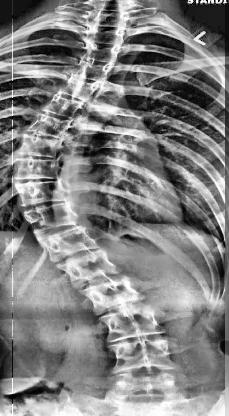Vertebrae: (100, 304, 167, 342), (77, 276, 146, 312), (53, 251, 117, 285), (40, 228, 104, 262), (112, 338, 174, 372), (22, 202, 78, 235), (10, 180, 72, 206), (10, 156, 63, 182), (16, 132, 63, 160), (27, 113, 73, 141), (42, 93, 84, 120), (62, 76, 98, 102), (82, 43, 119, 66), (85, 11, 131, 29), (77, 60, 111, 84), (86, 28, 126, 48)
